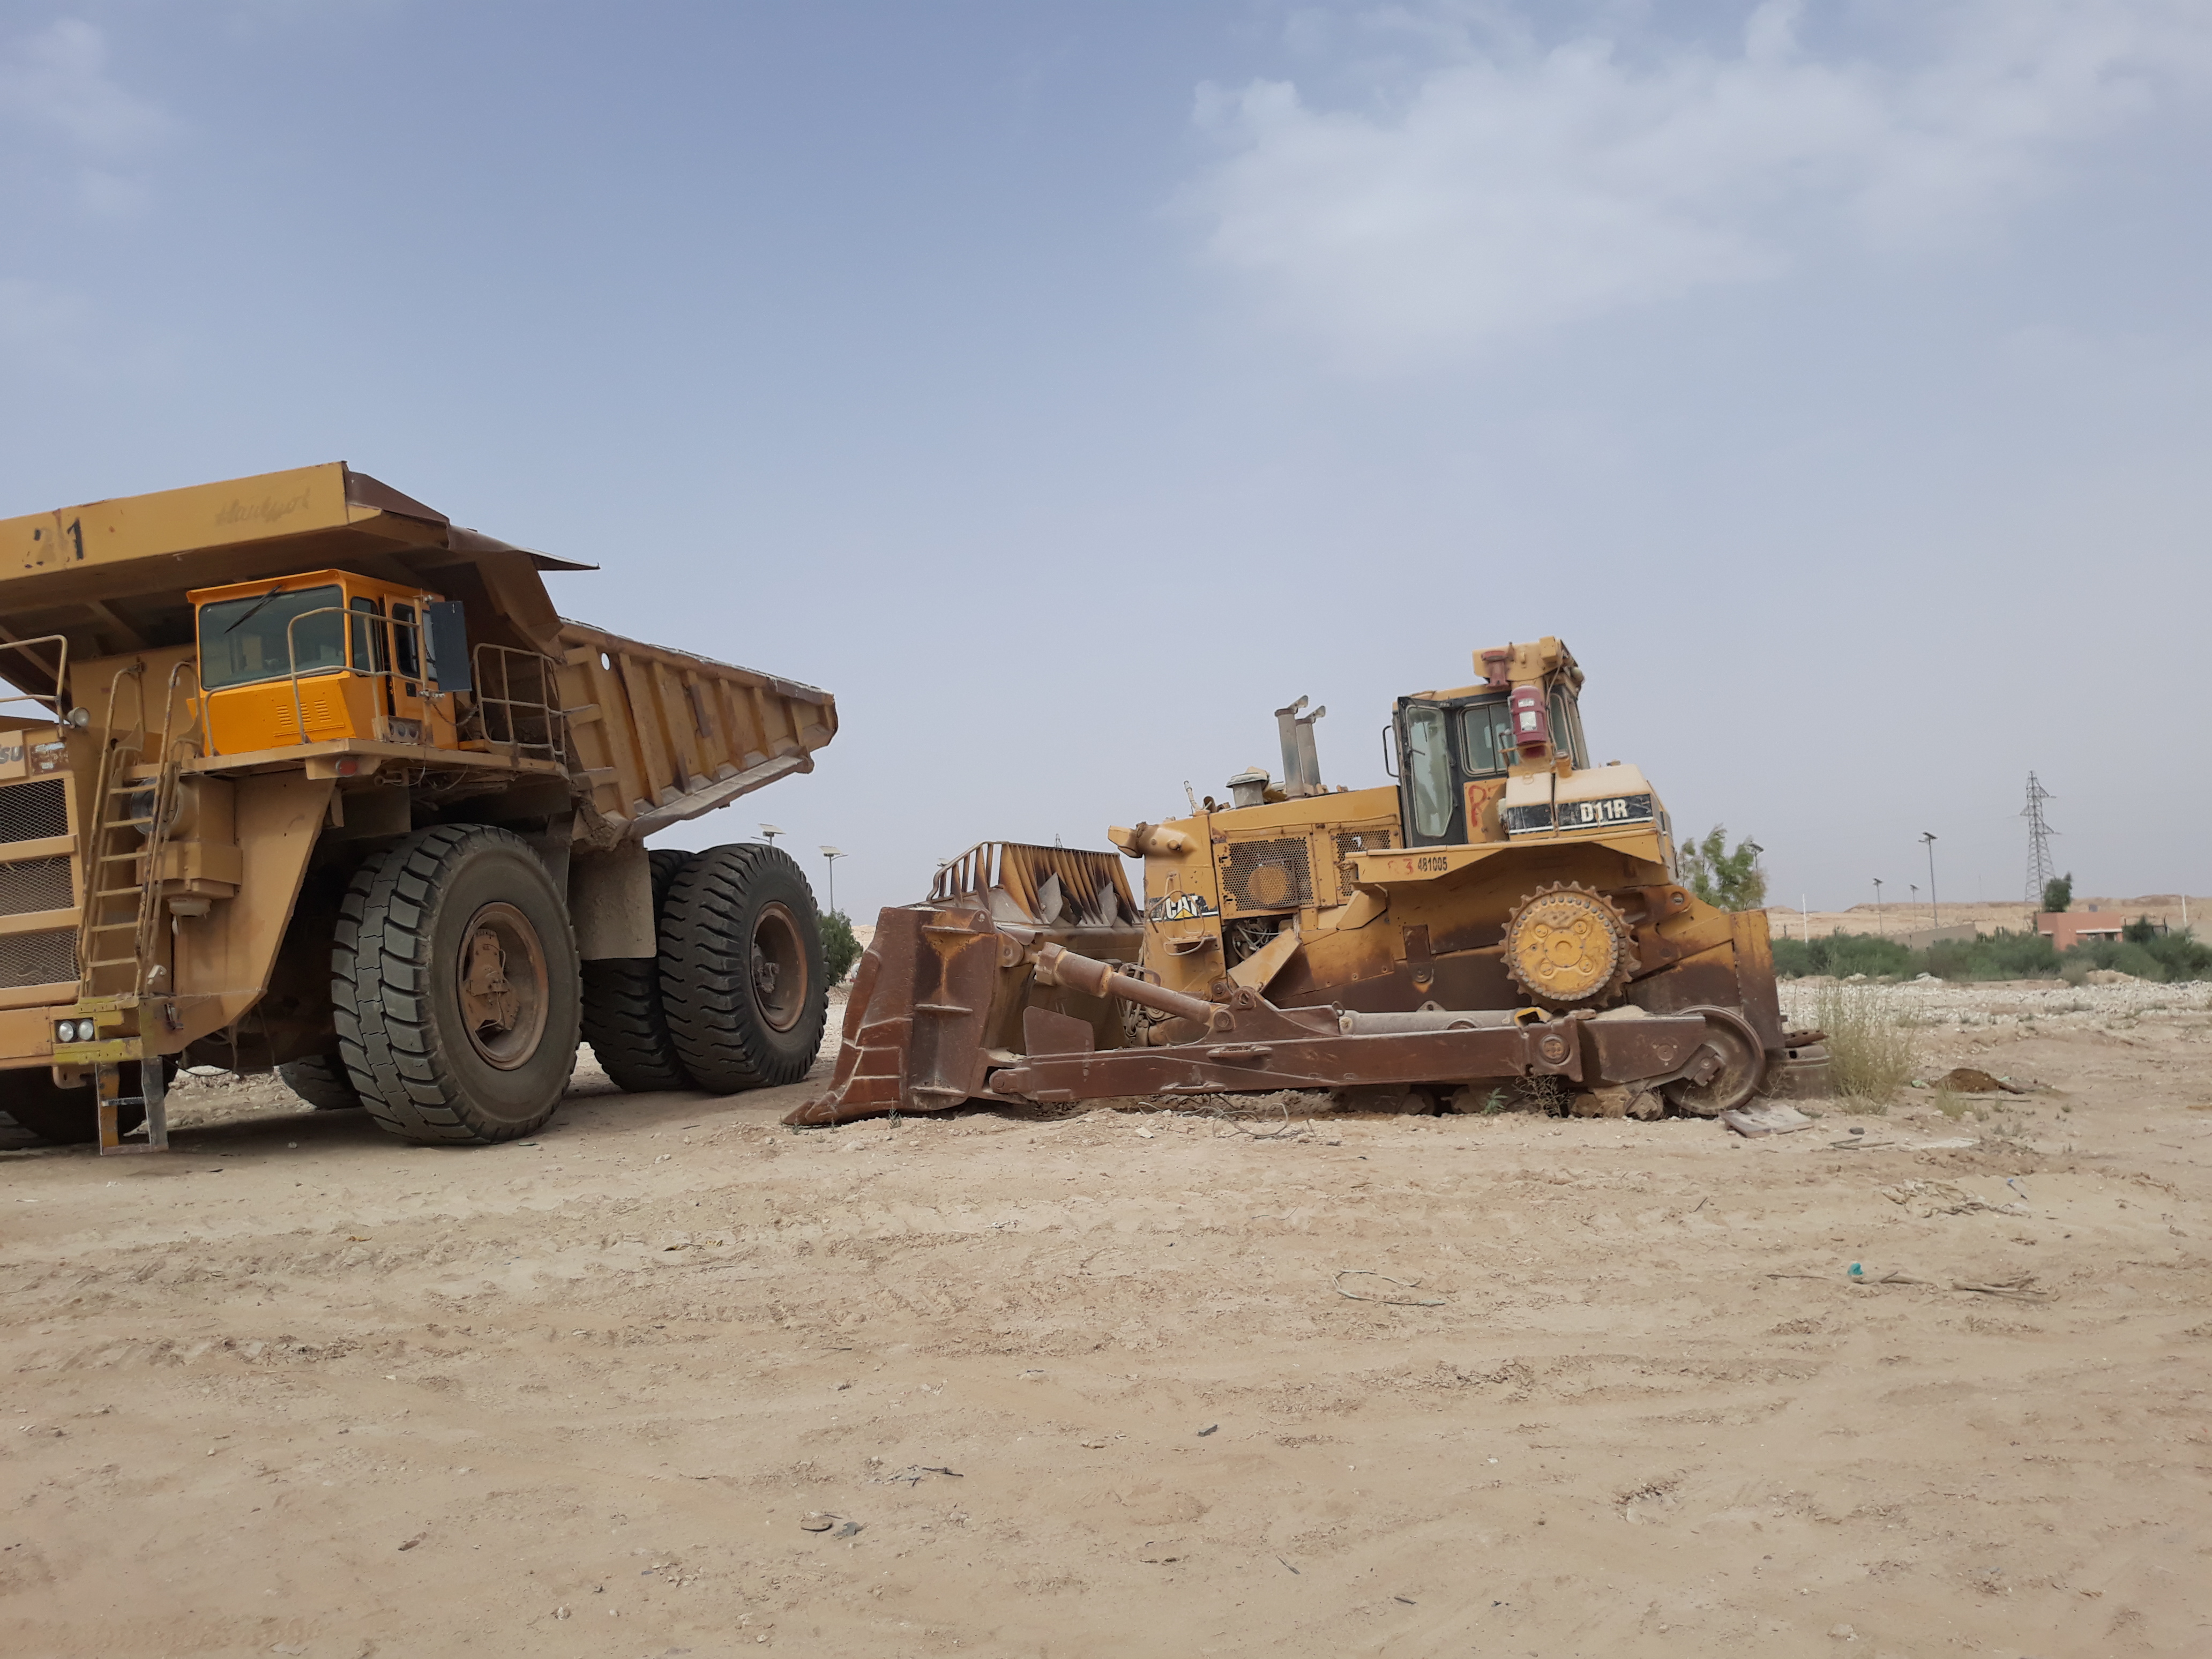bulldozer: (798, 615, 1803, 1192)
camion: (9, 457, 846, 1192)
